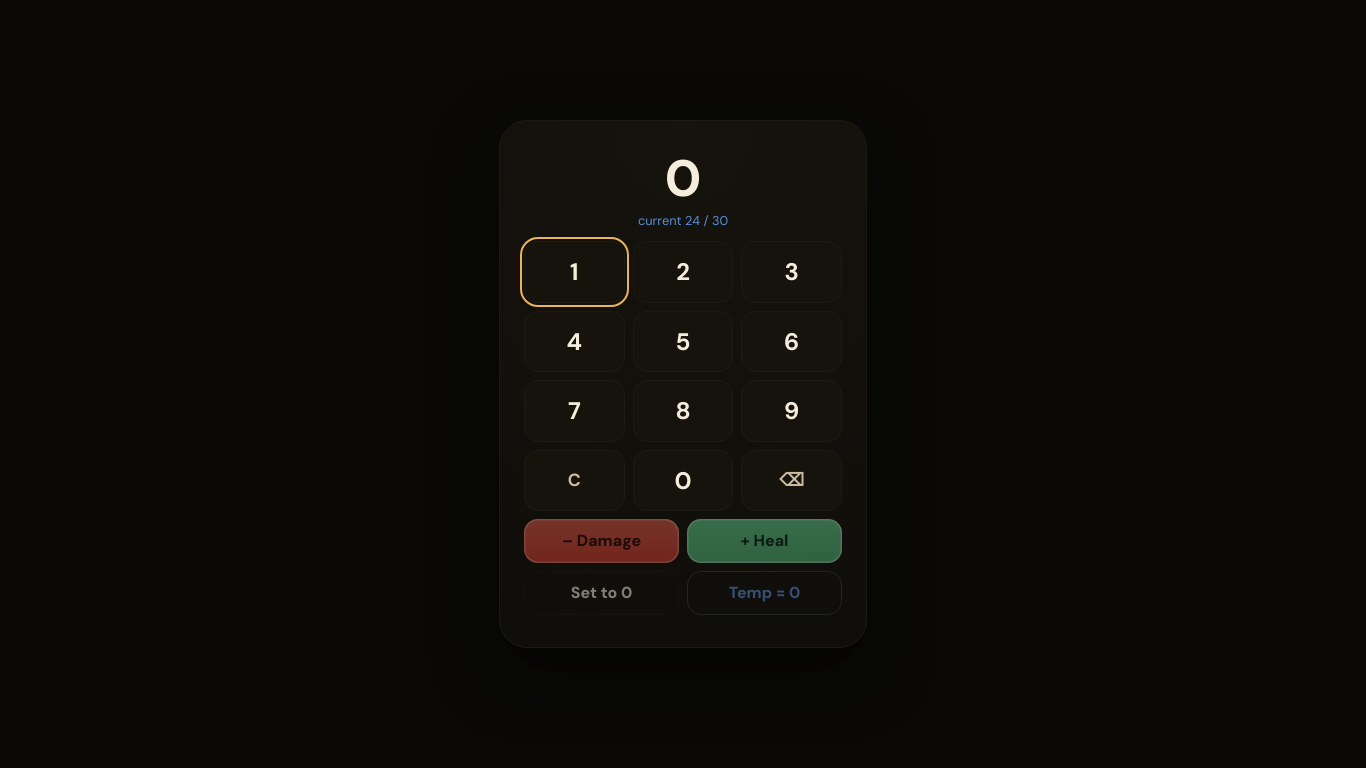
HpKeypad › backspace removes the last digit
Click the button "1" at (574, 272), box [524,241,625,303]
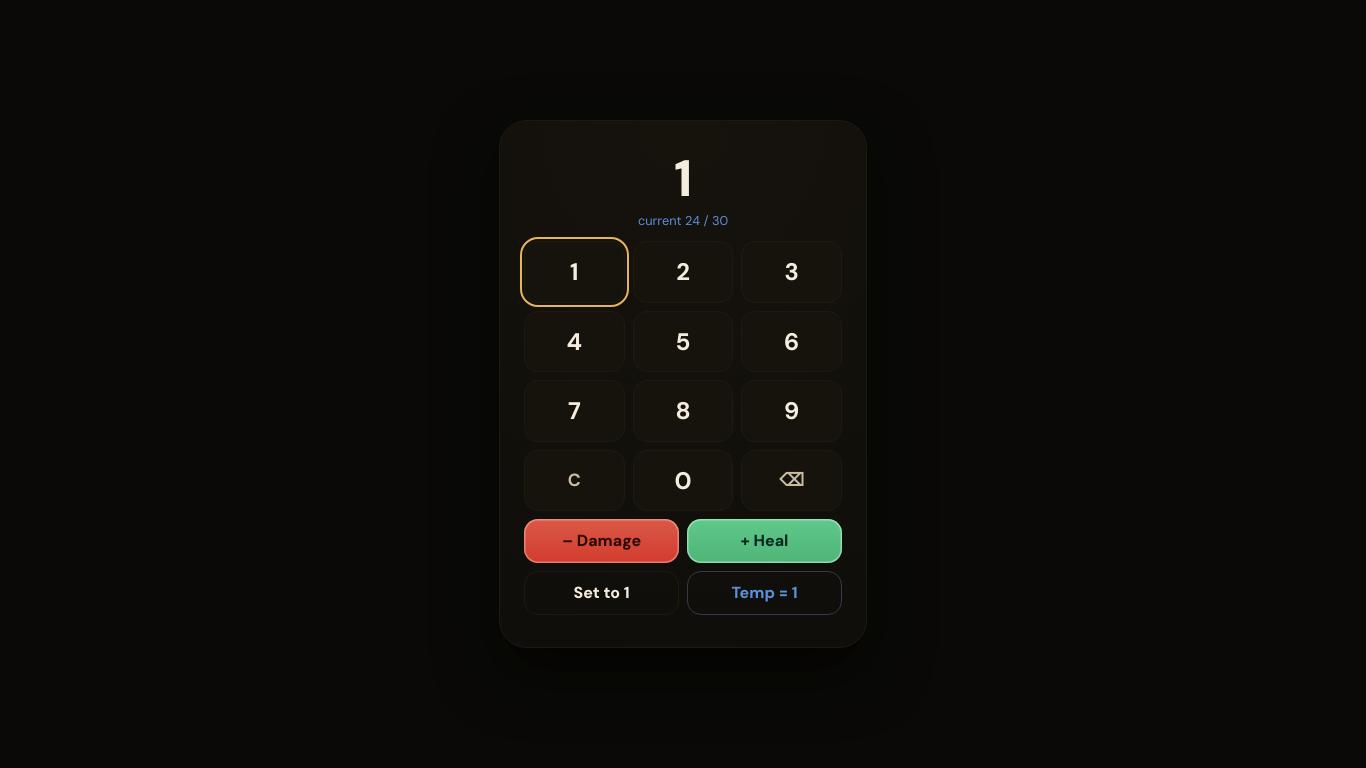
Click the button "2" at (683, 272), box [633,241,733,303]
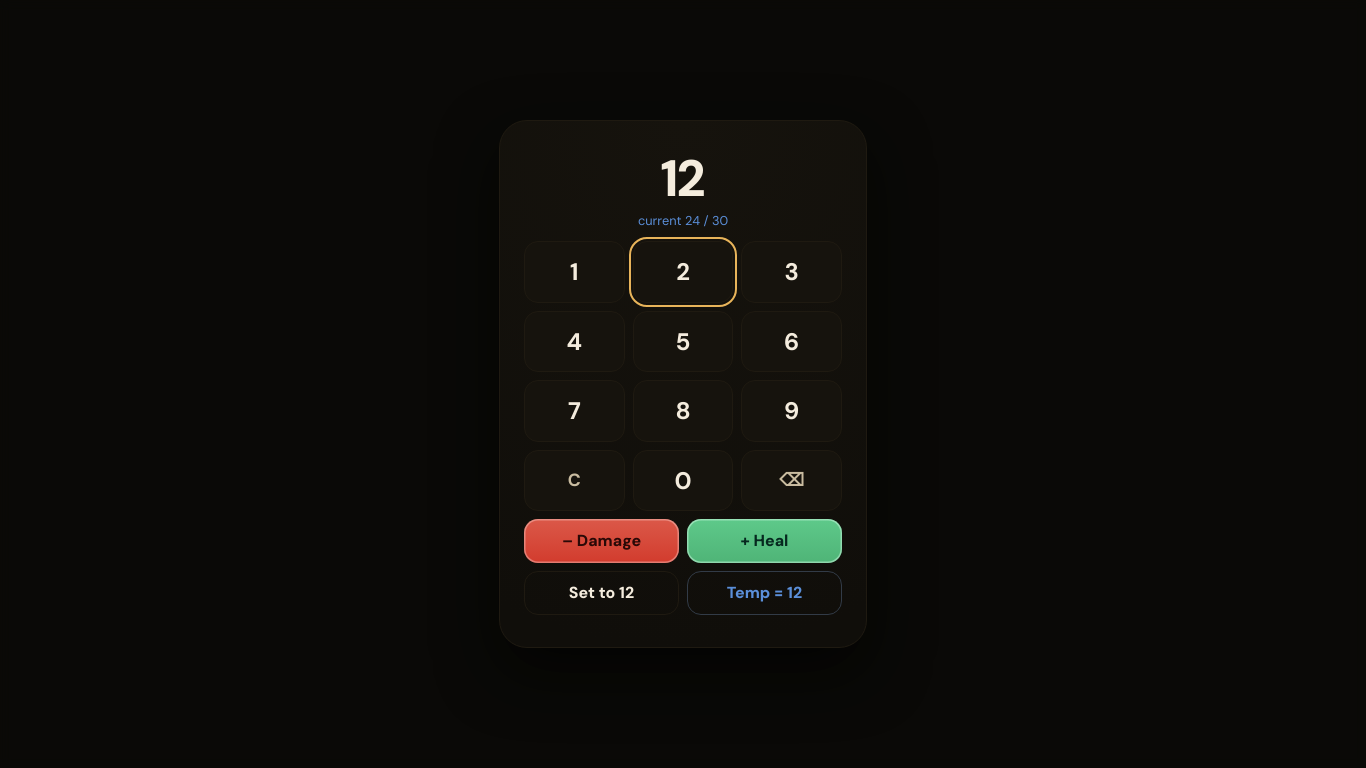
Click the button "3" at (792, 272), box [741,241,842,303]
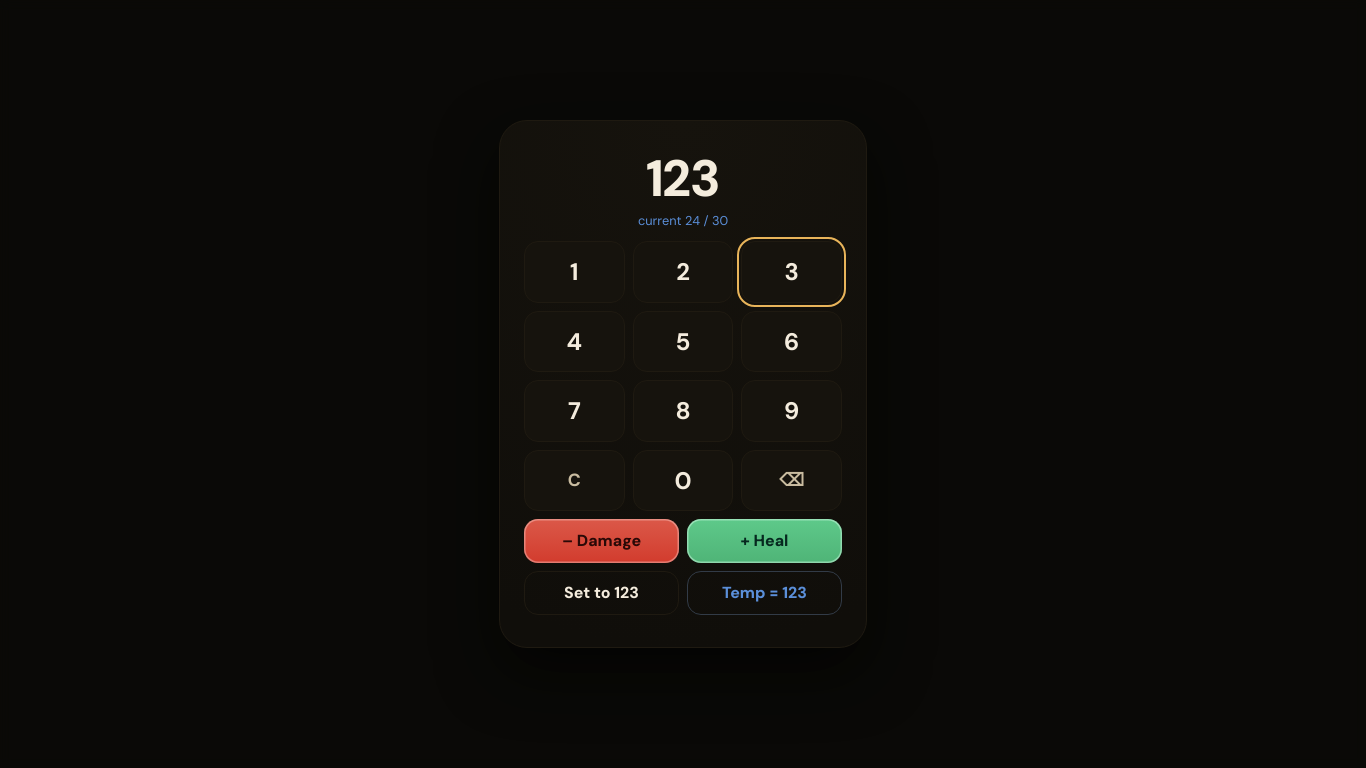
Click the button named "backspace" at (792, 480), box [741,450,842,511]
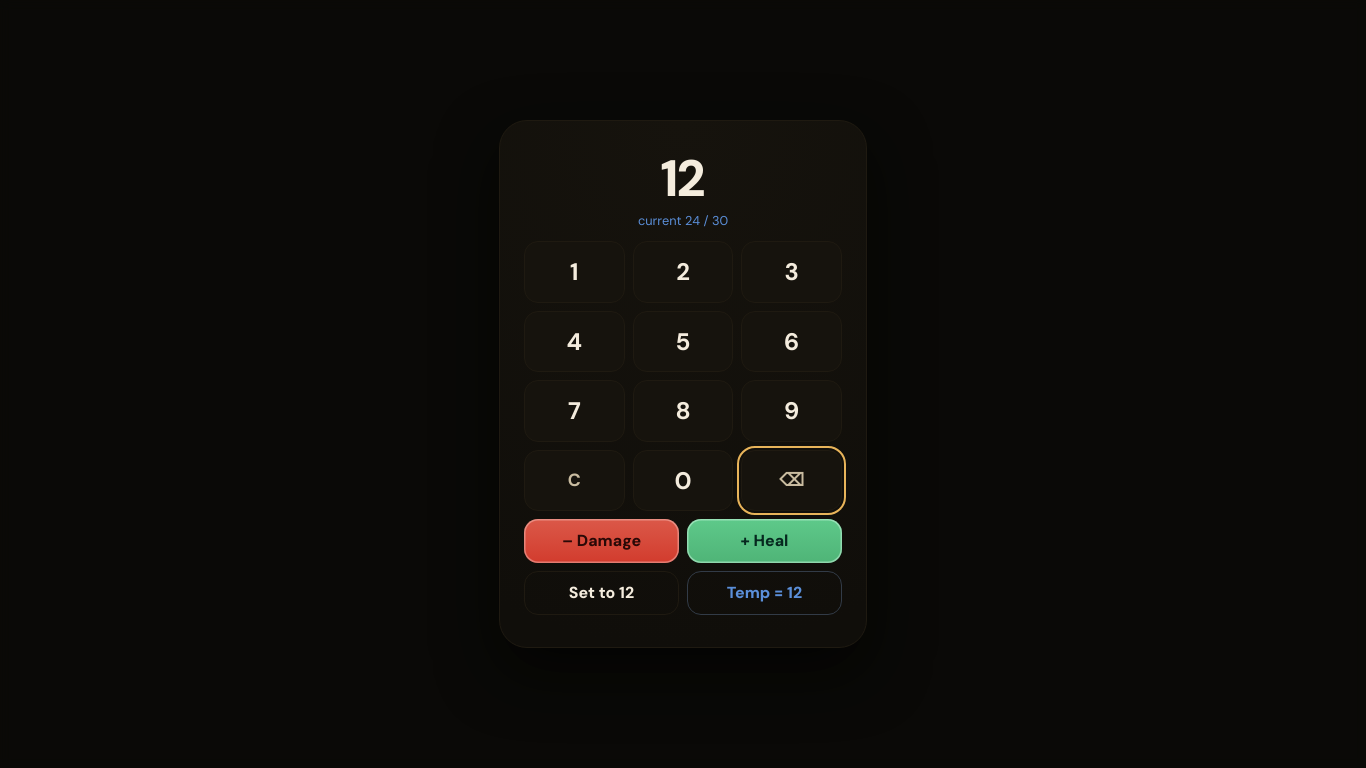
Expected: the text with test id "keypad-amount" reads "12", [661,145,705,212]
